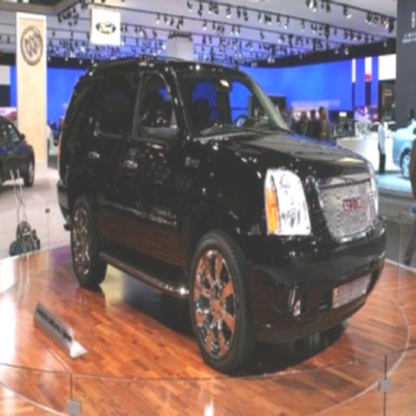Vehicle: (57, 55, 387, 376)
